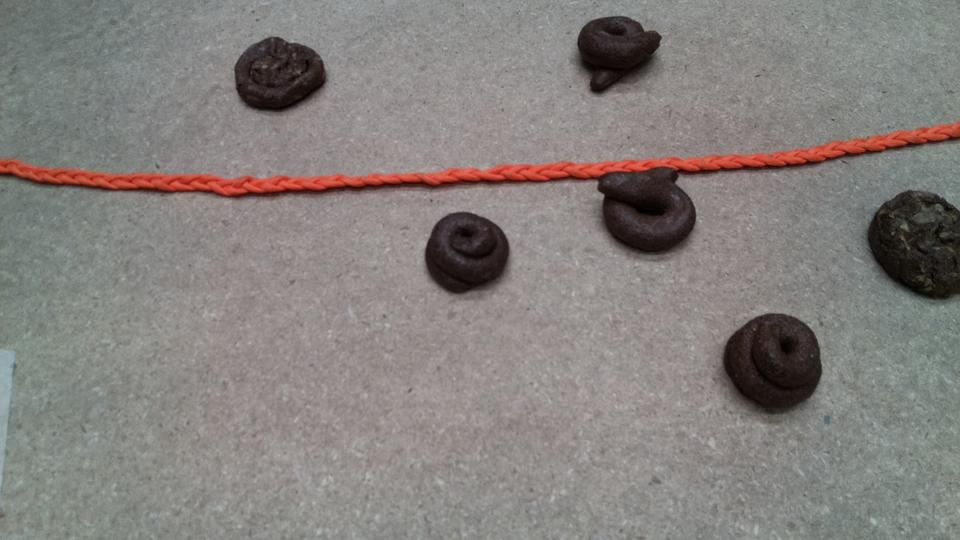poop: (716, 309, 835, 415), (863, 183, 960, 305), (597, 170, 702, 255), (422, 209, 517, 302), (229, 35, 337, 115), (574, 10, 664, 94)
rope: (2, 144, 601, 208), (579, 142, 909, 179), (823, 124, 960, 162)
